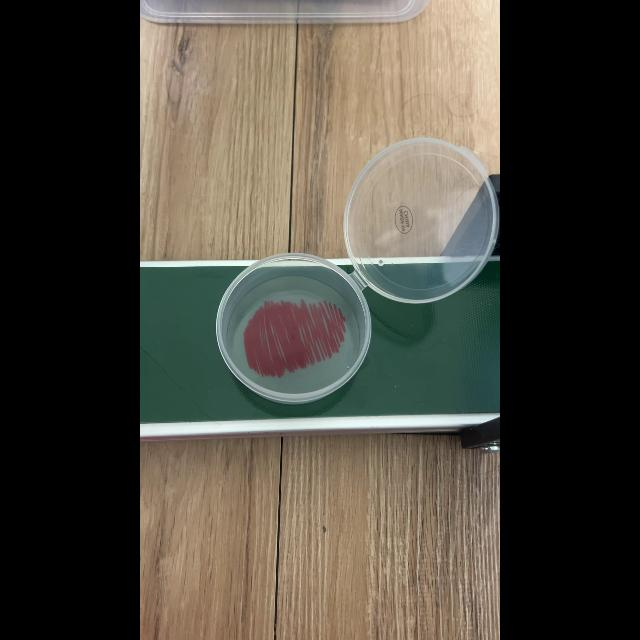dirty: (216, 264, 362, 396)
